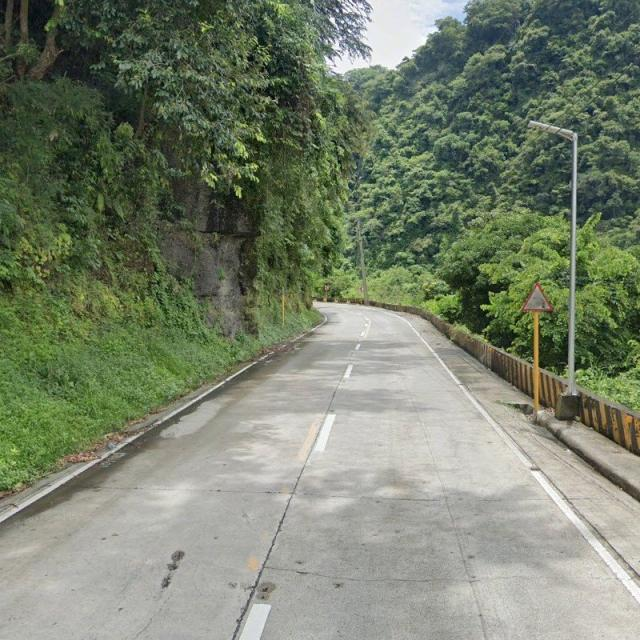warn_left_curve: (521, 283, 552, 311)
